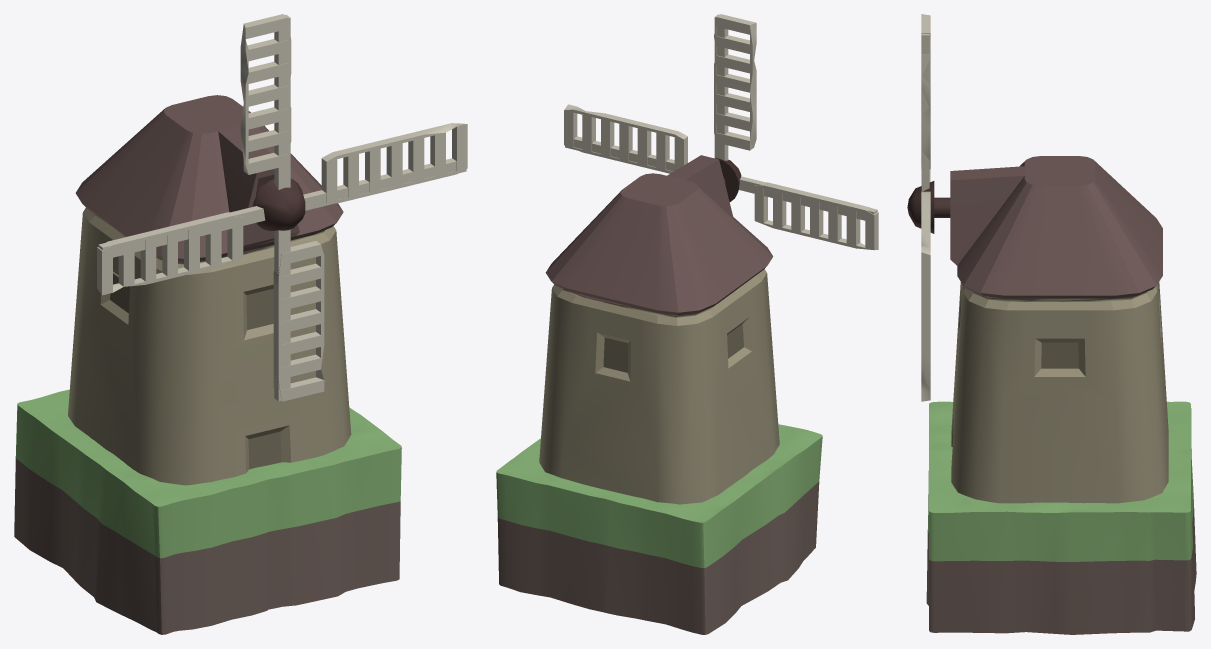
Rendered from windmill_map1.fbx.
3 views of the same model, side by side, from view 1: azimuth 30°, elevation 25°; view 2: azimuth 150°, elevation 25°; view 3: azimuth 270°, elevation 25° (orthographic). The views are drawn at different scales.
Visible parts, largest first — view 1: basewindmill_pCube7, groundwindmill, armwindmilll; view 2: basewindmill_pCube7, groundwindmill, armwindmilll; view 3: basewindmill_pCube7, groundwindmill, armwindmilll.
Boxes of the visible parts, left/top/right/bottom form: basewindmill_pCube7: left=68, top=95, right=351, bottom=485; groundwindmill: left=14, top=389, right=401, bottom=634; armwindmilll: left=97, top=14, right=467, bottom=401; basewindmill_pCube7: left=539, top=155, right=779, bottom=504; groundwindmill: left=496, top=424, right=822, bottom=634; armwindmilll: left=564, top=14, right=878, bottom=250; basewindmill_pCube7: left=934, top=156, right=1168, bottom=503; groundwindmill: left=926, top=401, right=1196, bottom=634; armwindmilll: left=907, top=14, right=934, bottom=401.
Size of the model in its own units: 29.31 by 45.48 by 21.79.
